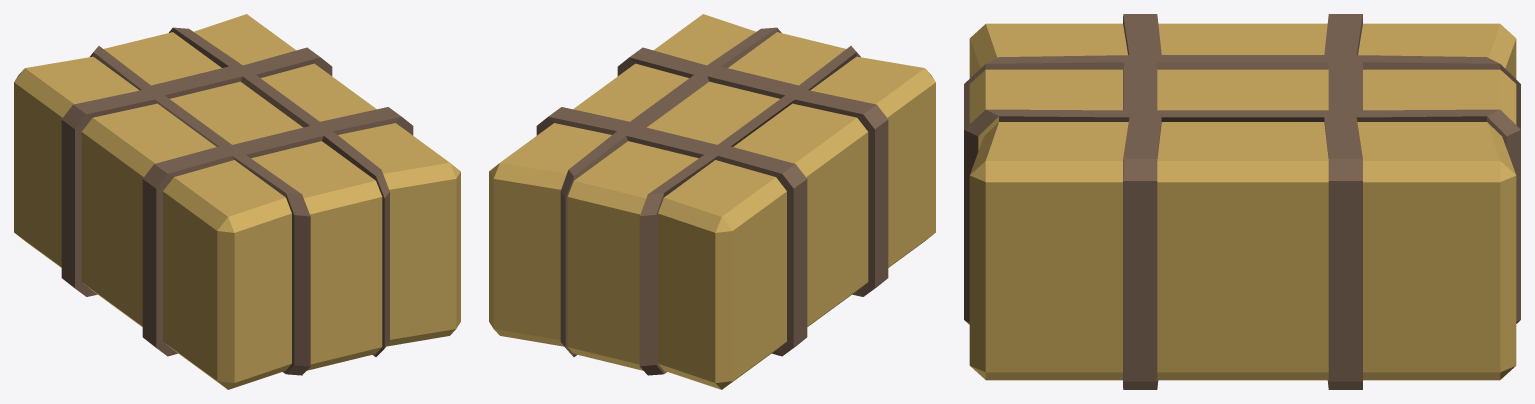
The model's file is chaff.fbx.
3 views of the same model, side by side, from view 1: azimuth 30°, elevation 25°; view 2: azimuth 150°, elevation 25°; view 3: azimuth 270°, elevation 25° (orthographic). The views are drawn at different scales.
Visible parts, largest first — view 1: chaff; view 2: chaff; view 3: chaff.
Part boxes in pixels (<box>): chaff: <box>14,14,460,389</box>; chaff: <box>489,14,935,389</box>; chaff: <box>964,14,1520,389</box>.
Bounding box in the file's own units: 1.11 × 1.64 × 0.7508.
